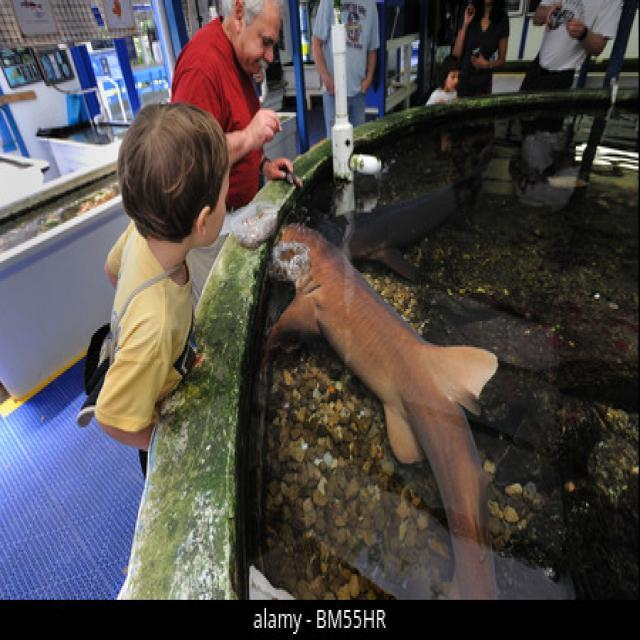Shark: (264, 195, 522, 590)
